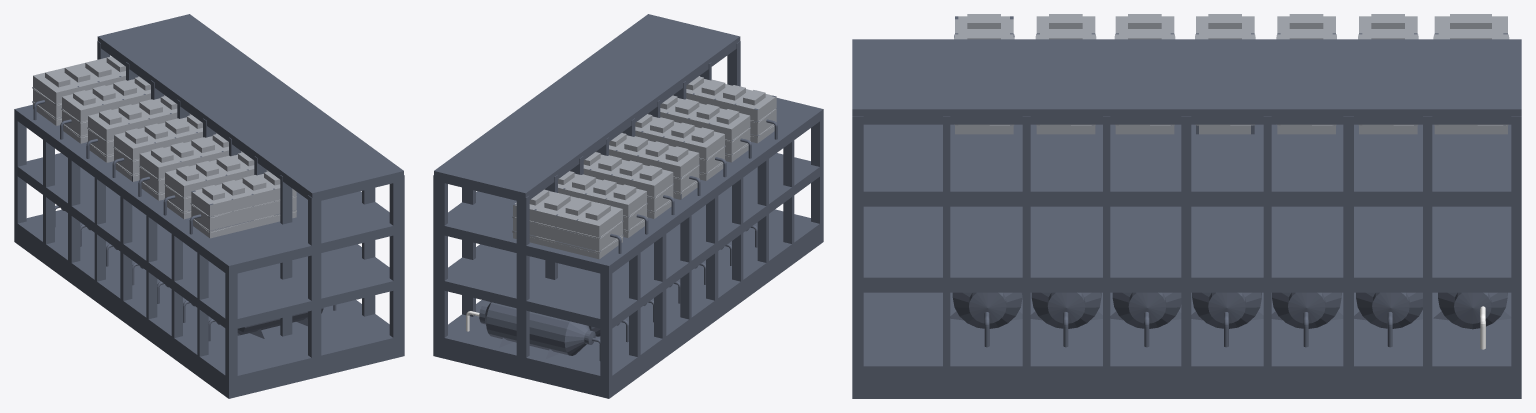
The model's file is dafang.dae.
The picture shows the model from 3 angles, left to right: view 1: azimuth 30°, elevation 25°; view 2: azimuth 150°, elevation 25°; view 3: azimuth 270°, elevation 25°; orthographic projection. The views are drawn at different scales.
Visible parts, largest first — view 1: polySurface18; view 2: polySurface18; view 3: polySurface18.
Boxes of the visible parts, x1=… form: polySurface18: x1=14, y1=14, x2=404, y2=398; polySurface18: x1=433, y1=14, x2=823, y2=398; polySurface18: x1=852, y1=14, x2=1521, y2=398.
Bounding box in the file's own units: 0.0105 × 0.0106 × 0.0222.
